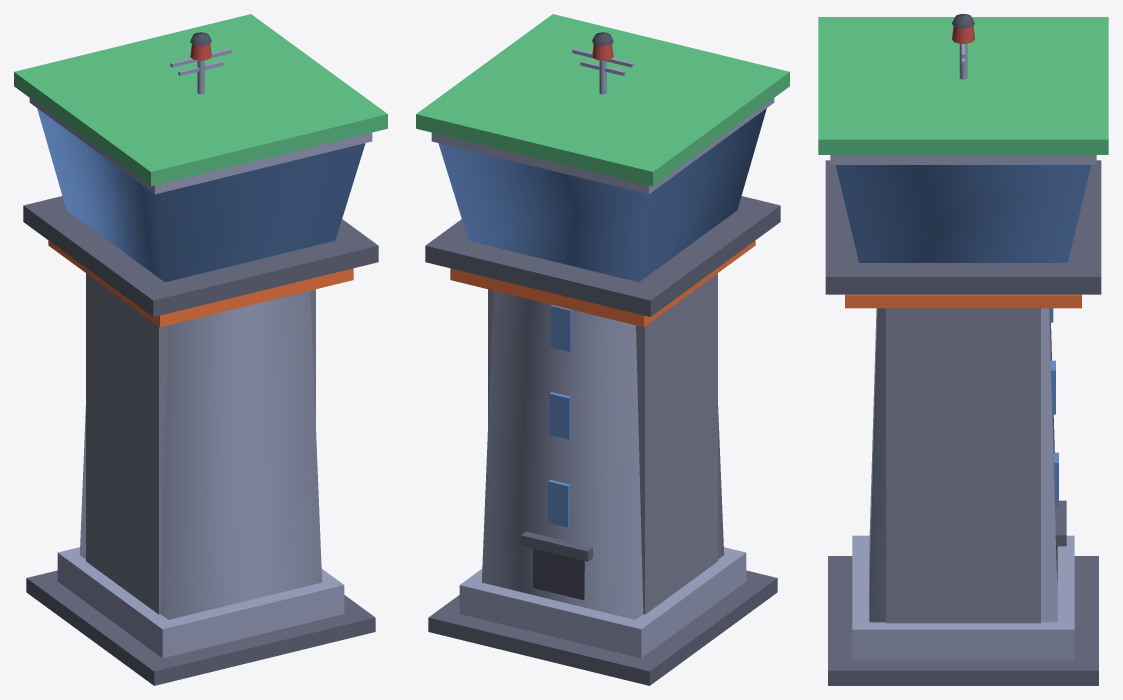
Rendered from tour-controle.glb.
The picture shows the model from 3 angles, left to right: view 1: azimuth 30°, elevation 25°; view 2: azimuth 150°, elevation 25°; view 3: azimuth 270°, elevation 25°; orthographic projection. The views are drawn at different scales.
Parts seen in each view (by area): view 1: fut, toit, vitrage-cabine, nervure-g, plancher-cabine, embase, socle, bandeau, acrotere; view 2: fut, toit, vitrage-cabine, nervure-g, plancher-cabine, embase, socle, bandeau, acrotere, porte, linteau-porte, meurtriere-1 (+2 smaller); view 3: nervure-d, toit, vitrage-cabine, plancher-cabine, socle, embase, fut, bandeau, acrotere, linteau-porte.
Boxes of the visible parts, bbox=[...] form: fut: bbox=[79, 291, 322, 619]; toit: bbox=[14, 14, 387, 186]; vitrage-cabine: bbox=[37, 108, 365, 282]; nervure-g: bbox=[86, 273, 167, 614]; plancher-cabine: bbox=[23, 196, 378, 316]; embase: bbox=[57, 547, 344, 658]; socle: bbox=[26, 570, 375, 685]; bandeau: bbox=[48, 240, 353, 327]; acrotere: bbox=[29, 98, 372, 194]; fut: bbox=[481, 291, 724, 619]; toit: bbox=[416, 14, 789, 186]; vitrage-cabine: bbox=[438, 108, 766, 282]; nervure-g: bbox=[636, 273, 717, 614]; plancher-cabine: bbox=[425, 196, 780, 316]; embase: bbox=[459, 547, 746, 658]; socle: bbox=[428, 570, 777, 685]; bandeau: bbox=[450, 240, 755, 327]; acrotere: bbox=[431, 98, 774, 194]; porte: bbox=[533, 548, 584, 600]; linteau-porte: bbox=[520, 531, 592, 561]; meurtriere-1: bbox=[549, 392, 571, 439]; nervure-d: bbox=[886, 308, 1040, 623]; toit: bbox=[818, 17, 1108, 154]; vitrage-cabine: bbox=[835, 165, 1091, 262]; plancher-cabine: bbox=[825, 160, 1101, 294]; socle: bbox=[828, 556, 1098, 685]; embase: bbox=[852, 535, 1074, 660]; fut: bbox=[869, 308, 1057, 622]; bandeau: bbox=[845, 294, 1081, 308]; acrotere: bbox=[830, 155, 1096, 164]; linteau-porte: bbox=[1055, 500, 1066, 546].
Bounding box in the file's own units: 0.3 × 0.7 × 0.3.
